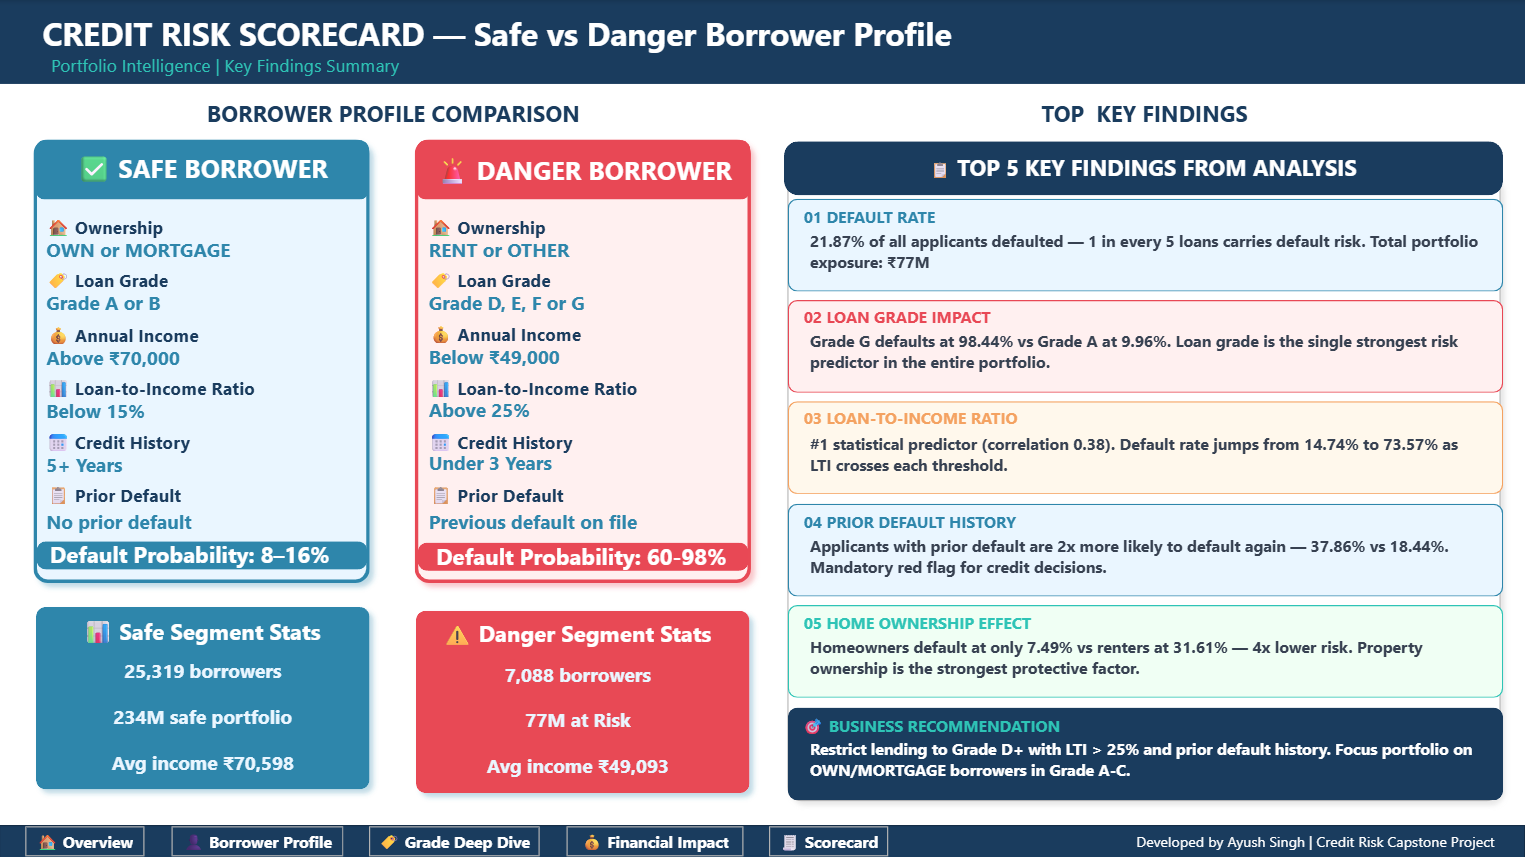

The dashboard page shown, as its layout file describes it:
{"tool":"powerbi","page":{"name":"Scorecard","canvas":[1280,720],"ordinal":4},"visuals":[{"type":"shape","box":[652.1,137.3,616.3,543.6],"z":0,"group":"g2"},{"type":"shape","box":[340.5,503.5,297.7,170.9],"z":0,"group":"g4"},{"type":"shape","box":[0,691.6,1280,28.4],"z":0,"group":"g1"},{"type":"shape","box":[658.5,118.7,603,45.3],"z":1000,"group":"g2"},{"type":"textbox","box":[344.6,514.3,279.1,34.9],"z":1000,"group":"g4"},{"type":"actionButton","box":[144.2,692.6,144.2,25.3],"z":1000,"group":"g1"},{"type":"textbox","box":[345.8,626,279.1,31.4],"z":2000,"group":"g4"},{"type":"group","id":"g1","title":"Group 1","box":[0,690.5,1280,29.5],"z":2000},{"type":"actionButton","box":[22.1,692.6,100,25.3],"z":2000,"group":"g1"},{"type":"shape","box":[0,0,1280,70.5],"z":3000},{"type":"textbox","box":[345.8,587.6,279.1,31.4],"z":3000,"group":"g4"},{"type":"actionButton","box":[310.5,692.6,143.2,25.3],"z":3000,"group":"g1"},{"type":"textbox","box":[31.2,5,776.2,67.5],"z":4000},{"type":"textbox","box":[345.8,549.2,279.1,31.4],"z":4000,"group":"g4"},{"type":"actionButton","box":[475.7,692.6,148.4,25.3],"z":4000,"group":"g1"},{"type":"textbox","box":[38.8,40,302.5,30],"z":5000},{"type":"actionButton","box":[646.3,692.6,100,25.3],"z":5000,"group":"g1"},{"type":"textbox","box":[31.2,77.5,598.8,35],"z":6000},{"type":"textbox","box":[948.4,690.5,312.6,28.4],"z":6000,"group":"g1"},{"type":"textbox","box":[659.9,123.2,600.3,36.3],"z":7000,"group":"g2"},{"type":"shape","box":[20,107.5,300,390],"z":8000},{"type":"shape","box":[30,117.5,280,50],"z":9000},{"type":"textbox","box":[30,121.2,280,38.8],"z":10000},{"type":"textbox","box":[35,175,112.5,32.5],"z":11000},{"type":"textbox","box":[35,192.5,165,32.5],"z":12000},{"type":"textbox","box":[35,220,112.5,32.5],"z":13000},{"type":"textbox","box":[35,238,165,32.5],"z":14000},{"type":"textbox","box":[35,310,186.2,32.5],"z":15000},{"type":"textbox","box":[35,328,94,32.5],"z":16000},{"type":"textbox","box":[35,355,132.5,32.5],"z":17000},{"type":"textbox","box":[35,373,75,32.5],"z":18000},{"type":"textbox","box":[35,266,140,32.5],"z":19000},{"type":"textbox","box":[35,284,124,32.5],"z":20000},{"type":"textbox","box":[35,400,132.5,32.5],"z":21000},{"type":"textbox","box":[35,421.2,134,32.5],"z":22000},{"type":"shape","box":[31.2,453.8,277.5,23.8],"z":23000},{"type":"textbox","box":[37.5,447.5,245,36.2],"z":24000},{"type":"shape","box":[340,108,300,390],"z":25000},{"type":"shape","box":[350,117.5,280,50],"z":26000},{"type":"textbox","box":[350,122.5,280,38.8],"z":27000},{"type":"textbox","box":[355,175,112.5,32.5],"z":28000},{"type":"textbox","box":[355,220,112.5,32.5],"z":29000},{"type":"textbox","box":[355,310,186.2,32.5],"z":30000},{"type":"textbox","box":[355,355,132.5,32.5],"z":31000},{"type":"textbox","box":[355,265,140,32.5],"z":32000},{"type":"textbox","box":[355,400,132.5,32.5],"z":33000},{"type":"textbox","box":[355,192.5,132.5,32.5],"z":34000},{"type":"textbox","box":[355,238,165,32.5],"z":35000},{"type":"textbox","box":[355,327.5,98.8,32.5],"z":36000},{"type":"textbox","box":[355,372.5,121.2,32.5],"z":37000},{"type":"textbox","box":[355,283,124,32.5],"z":38000},{"type":"textbox","box":[355,421.2,195,32.5],"z":39000},{"type":"shape","box":[351.2,455,277.5,23.8],"z":40000},{"type":"textbox","box":[361.2,448.8,257.5,36.2],"z":41000},{"type":"group","id":"g2","title":"Group 2","box":[652.1,118.7,616.3,562.1],"z":41001},{"type":"shape","box":[661,166.3,600,77.9],"z":41002},{"type":"textbox","box":[669.8,167.4,122.1,28],"z":41003},{"type":"textbox","box":[675.6,187.2,572.1,46.5],"z":41004},{"type":"shape","box":[661.6,251.6,600,77.9],"z":41005},{"type":"textbox","box":[669.8,252,168.6,28],"z":41006},{"type":"textbox","box":[675.6,272,572.1,46.5],"z":41007},{"type":"shape","box":[661.6,337,600,77.9],"z":41008},{"type":"shape","box":[661.6,422.3,600,77.9],"z":41009},{"type":"shape","box":[661.6,507.7,600,77.9],"z":41010},{"type":"shape","box":[661.6,593,600,77.9],"z":41011},{"type":"textbox","box":[669.8,337,200,27.9],"z":41012},{"type":"textbox","box":[675.6,358.1,572.1,50],"z":41013},{"type":"textbox","box":[669.8,423.3,193,27.9],"z":41014},{"type":"textbox","box":[675,443,572.1,50],"z":41015},{"type":"textbox","box":[669.8,508,209.3,27.9],"z":41016},{"type":"textbox","box":[675,528,572.1,50],"z":41017},{"type":"textbox","box":[669,594,239.5,27.9],"z":41018},{"type":"textbox","box":[675.6,614,572.1,50],"z":41019},{"type":"textbox","box":[661.6,77.9,598.8,34.9],"z":41020},{"type":"shape","box":[22.1,500,297.7,170.9],"z":41021,"group":"g3"},{"type":"textbox","box":[30.2,511.6,279.1,34.9],"z":41022,"group":"g3"},{"type":"textbox","box":[31.4,623.3,279.1,31.4],"z":41023,"group":"g3"},{"type":"textbox","box":[31.4,584.9,279.1,31.4],"z":41024,"group":"g3"},{"type":"textbox","box":[31.4,546.5,279.1,31.4],"z":41025,"group":"g3"},{"type":"group","id":"g3","title":"Group 3","box":[22.1,500,297.7,170.9],"z":41026},{"type":"group","id":"g4","title":"Group 3","box":[340.5,503.5,297.7,170.9],"z":41027}]}

Visuals, with their boxes in screenshot pixels (x1, y1, x2, y2), scaled from the page's 1280x720 canvas onto the 1525x857 screenshot:
shape: 777, 163, 1511, 810
shape: 406, 599, 760, 803
shape: 0, 823, 1524, 856
shape: 785, 141, 1503, 195
textbox: 411, 612, 743, 654
actionButton: 172, 824, 344, 855
textbox: 412, 745, 745, 782
"Group 1" group: 0, 822, 1524, 856
actionButton: 26, 824, 145, 855
shape: 0, 0, 1524, 84
textbox: 412, 699, 745, 737
actionButton: 370, 824, 541, 855
textbox: 37, 6, 962, 86
textbox: 412, 654, 745, 691
actionButton: 567, 824, 744, 855
textbox: 46, 48, 407, 83
actionButton: 770, 824, 889, 855
textbox: 37, 92, 751, 134
textbox: 1130, 822, 1502, 856
textbox: 786, 147, 1501, 190
shape: 24, 128, 381, 592
shape: 36, 140, 369, 199
textbox: 36, 144, 369, 190
textbox: 42, 208, 176, 247
textbox: 42, 229, 238, 268
textbox: 42, 262, 176, 301
textbox: 42, 283, 238, 322
textbox: 42, 369, 264, 408
textbox: 42, 390, 154, 429
textbox: 42, 423, 200, 461
textbox: 42, 444, 131, 483
textbox: 42, 317, 208, 355
textbox: 42, 338, 189, 377
textbox: 42, 476, 200, 515
textbox: 42, 501, 201, 540
shape: 37, 540, 368, 568
textbox: 45, 533, 337, 576
shape: 405, 129, 762, 593
shape: 417, 140, 751, 199
textbox: 417, 146, 751, 192
textbox: 423, 208, 557, 247
textbox: 423, 262, 557, 301
textbox: 423, 369, 645, 408
textbox: 423, 423, 581, 461
textbox: 423, 315, 590, 354
textbox: 423, 476, 581, 515
textbox: 423, 229, 581, 268
textbox: 423, 283, 620, 322
textbox: 423, 390, 541, 428
textbox: 423, 443, 567, 482
textbox: 423, 337, 571, 376
textbox: 423, 501, 655, 540
shape: 418, 542, 749, 570
textbox: 430, 534, 737, 577
"Group 2" group: 777, 141, 1511, 810
shape: 788, 198, 1502, 291
textbox: 798, 199, 943, 233
textbox: 805, 223, 1487, 278
shape: 788, 299, 1503, 392
textbox: 798, 300, 999, 333
textbox: 805, 324, 1487, 379
shape: 788, 401, 1503, 494
shape: 788, 503, 1503, 595
shape: 788, 604, 1503, 697
shape: 788, 706, 1503, 799
textbox: 798, 401, 1036, 434
textbox: 805, 426, 1487, 486
textbox: 798, 504, 1028, 537
textbox: 804, 527, 1486, 587
textbox: 798, 605, 1047, 638
textbox: 804, 628, 1486, 688
textbox: 797, 707, 1082, 740
textbox: 805, 731, 1487, 790
textbox: 788, 93, 1502, 134
shape: 26, 595, 381, 799
textbox: 36, 609, 369, 650
textbox: 37, 742, 370, 779
textbox: 37, 696, 370, 734
textbox: 37, 650, 370, 688
"Group 3" group: 26, 595, 381, 799
"Group 3" group: 406, 599, 760, 803
